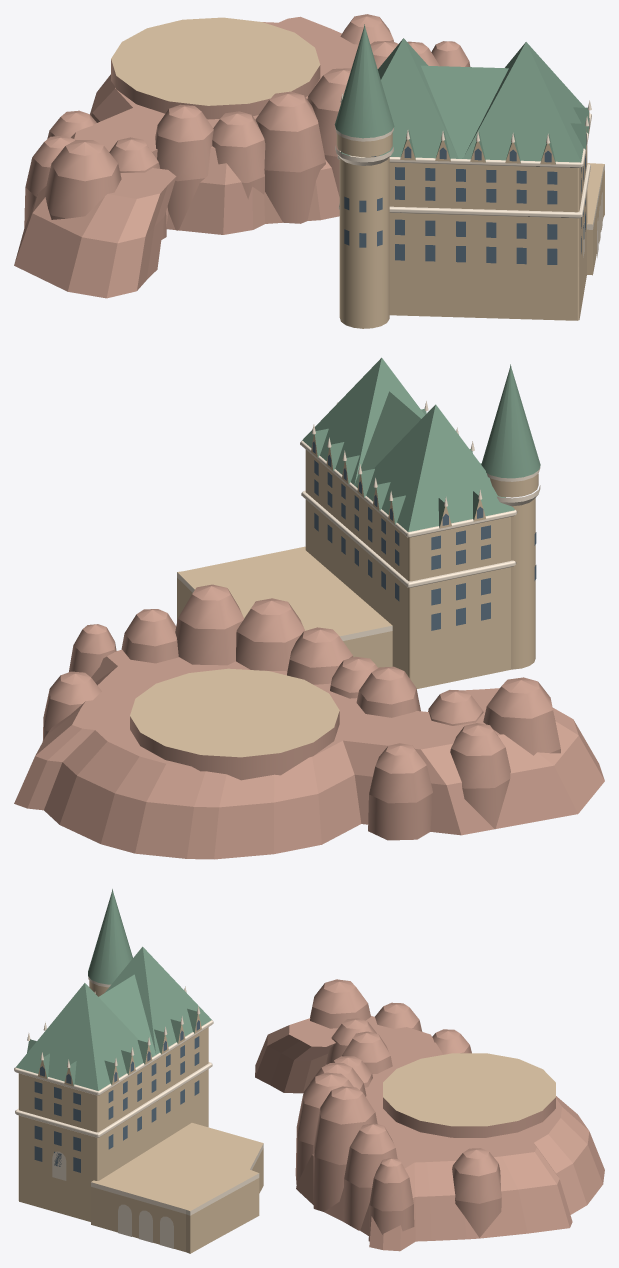
3 renders of one model, top to bottom at view 1: azimuth 30°, elevation 25°; view 2: azimuth 150°, elevation 25°; view 3: azimuth 270°, elevation 25°, orthographic. The views are drawn at different scales.
Parts seen in each view (by area): view 1: canada-pavilion-hotel-du-canada-walt-disney-world; view 2: canada-pavilion-hotel-du-canada-walt-disney-world; view 3: canada-pavilion-hotel-du-canada-walt-disney-world.
Boxes of the visible parts, left/top/right/bottom form: canada-pavilion-hotel-du-canada-walt-disney-world: left=14, top=14, right=604, bottom=328; canada-pavilion-hotel-du-canada-walt-disney-world: left=14, top=357, right=604, bottom=859; canada-pavilion-hotel-du-canada-walt-disney-world: left=14, top=889, right=604, bottom=1253.
Size of the model in its own units: 57.31 by 32.6 by 70.34.
